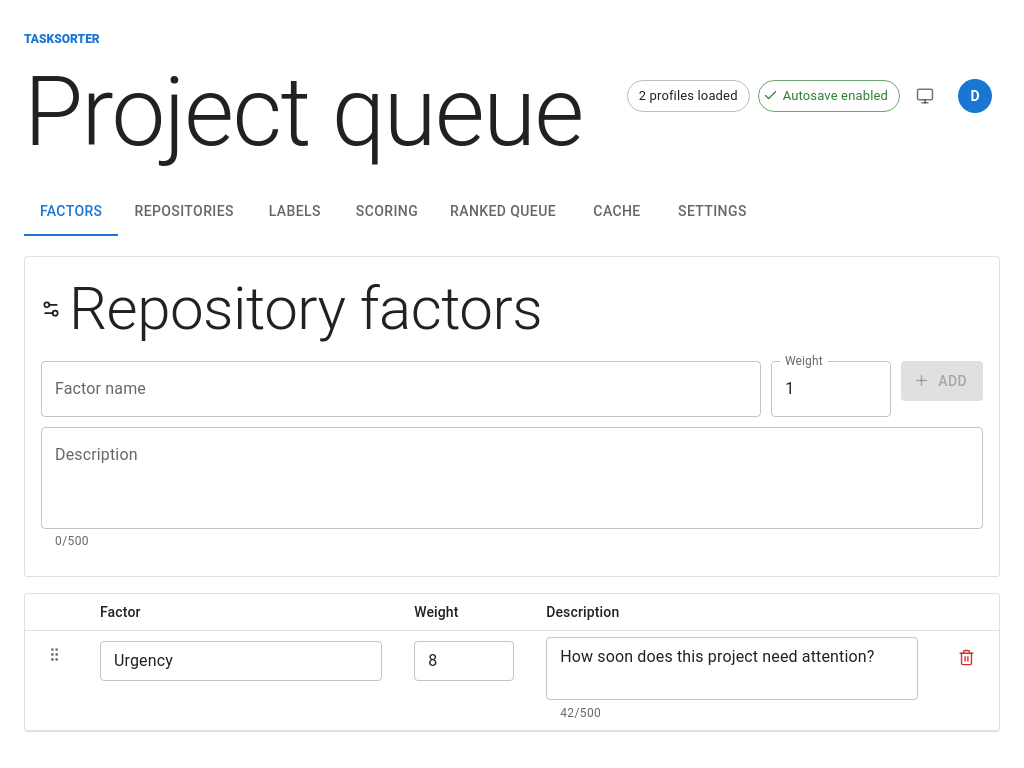
App › shows progress while discovering labels
Check: the text "Autosave enabled" is shown, box [783,88,888,103]
Click the tab "Labels". click: (295, 212)
box: [250,188,340,236]
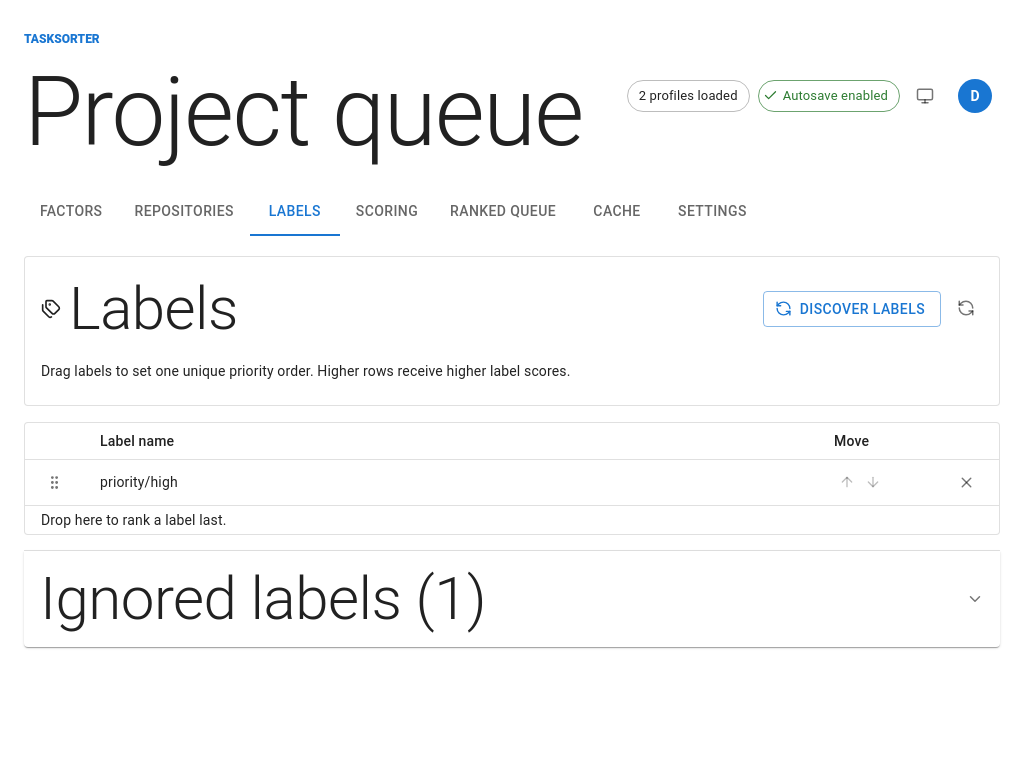
Click the button "Discover labels". click: (852, 309)
box: [763,291,941,327]
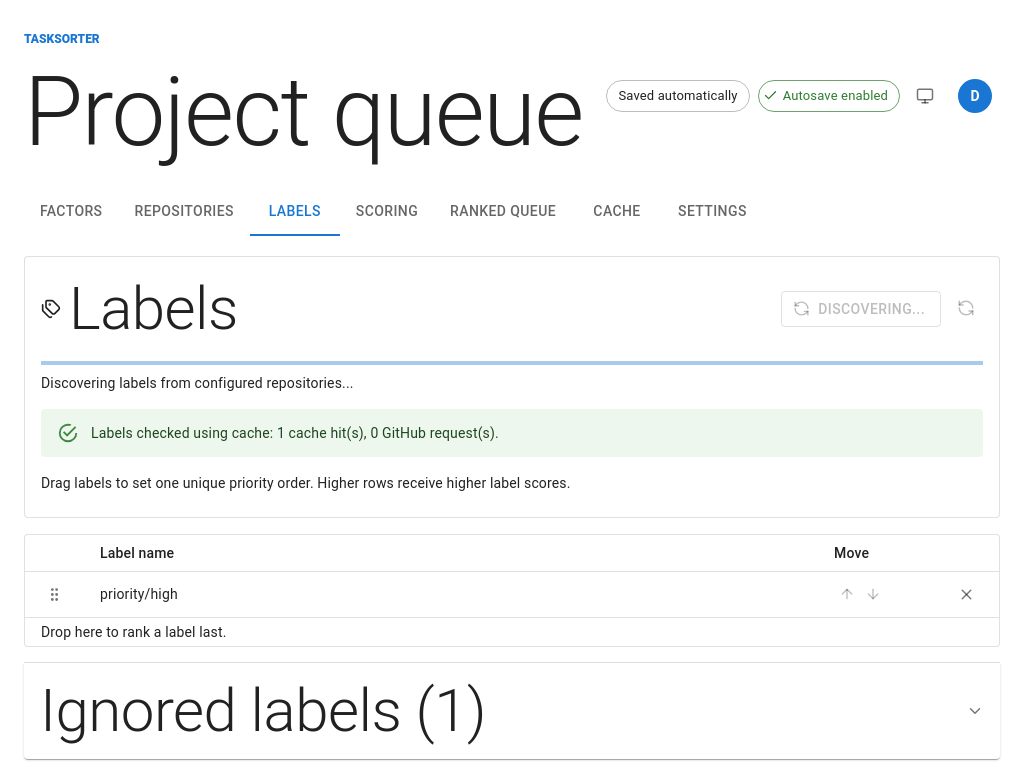
Check: the button named "Discover labels" is shown, box [781,291,941,327]
Check: the text "Discovering labels from configured repositories..." is shown, box [41,375,354,391]
